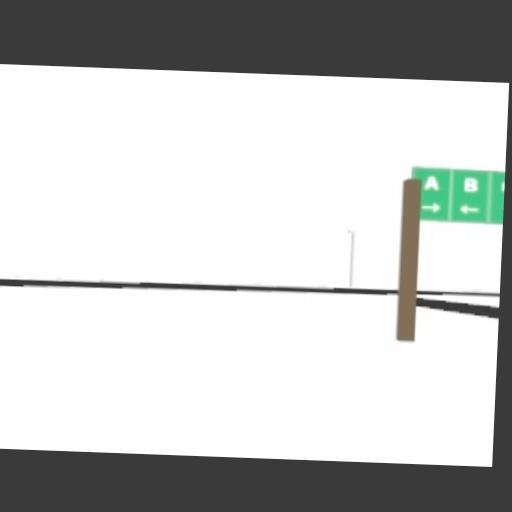A: (424, 176, 441, 191)
B: (463, 177, 478, 192)
C: (501, 180, 504, 194)
Left: (458, 204, 479, 214)
Right: (421, 202, 442, 212)
